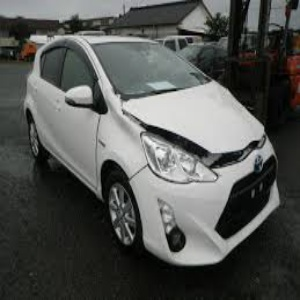bonnet: (157, 93, 263, 152)
